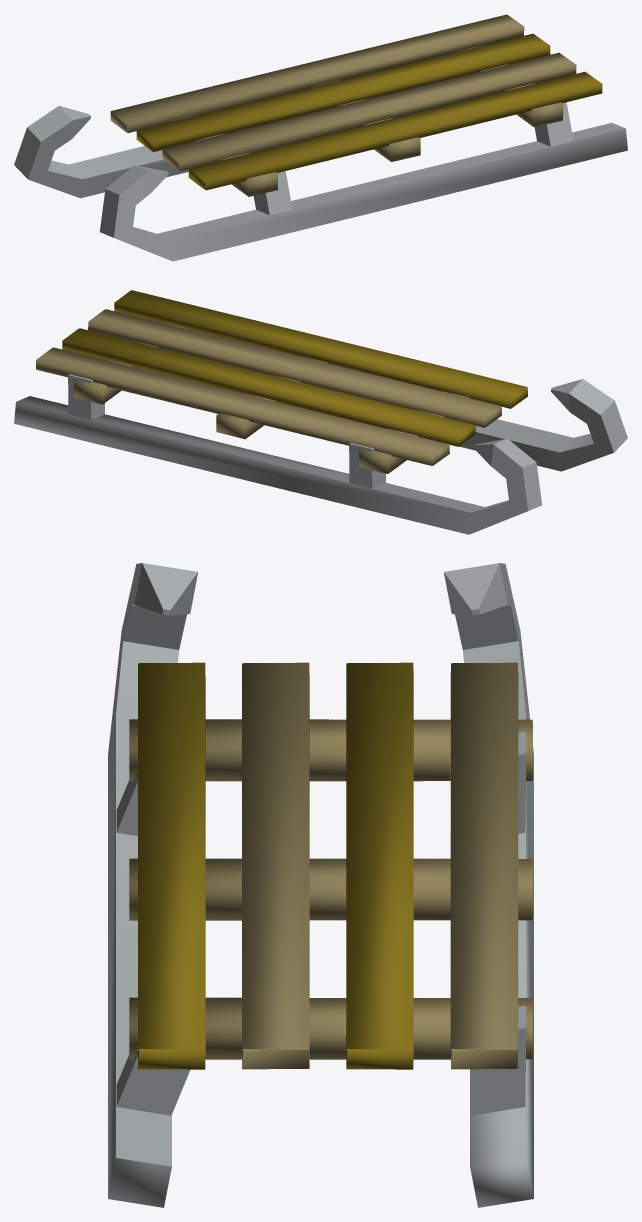
Rendered from sled.fbx.
3 views of the same model, one above another, from view 1: azimuth 30°, elevation 25°; view 2: azimuth 150°, elevation 25°; view 3: azimuth 270°, elevation 25° (orthographic). The views are drawn at different scales.
Parts seen in each view (by area): view 1: tree:pCube137; view 2: tree:pCube137; view 3: tree:pCube137.
Boxes of the visible parts, x1=… form: tree:pCube137: x1=14, y1=14, x2=627, y2=261; tree:pCube137: x1=14, y1=290, x2=627, y2=534; tree:pCube137: x1=108, y1=563, x2=533, y2=1207.
Bounding box in the file's own units: 503 × 87.21 × 182.
